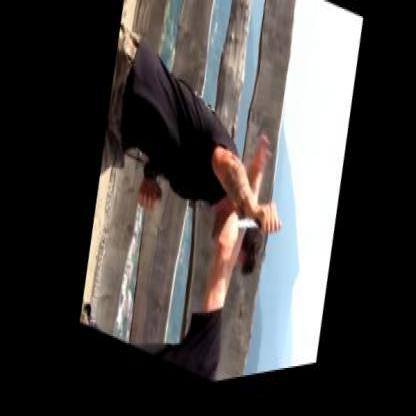knife: (218, 181, 286, 271)
